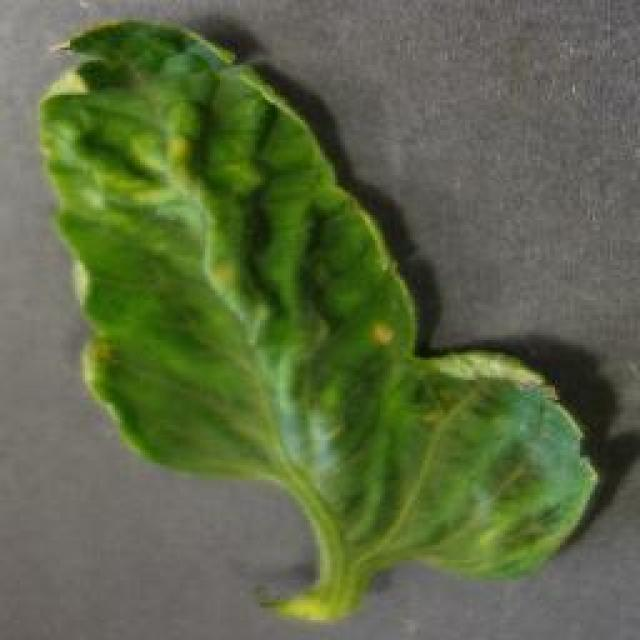Tomato yellow virus leaf: (36, 15, 599, 585)
